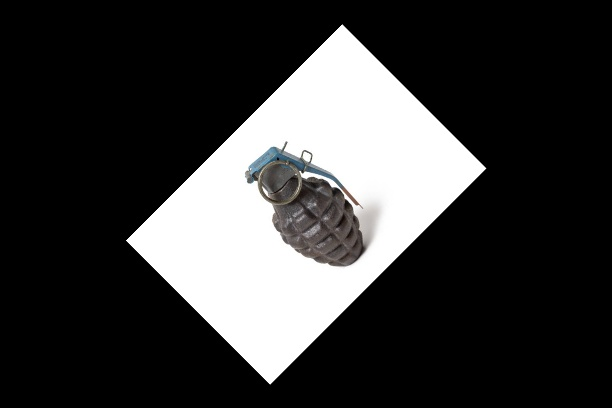e1: (240, 138, 369, 269)
